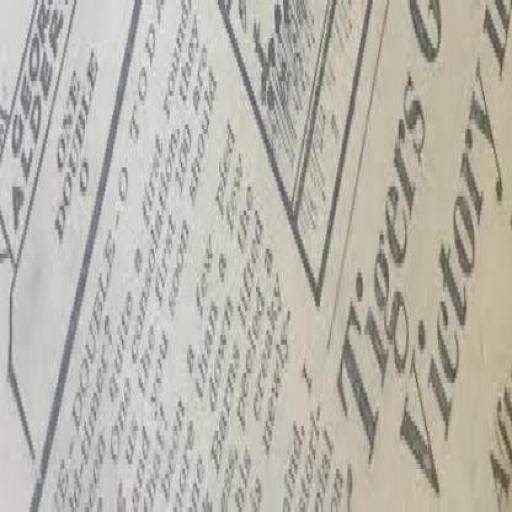paper: (0, 0, 511, 507)
